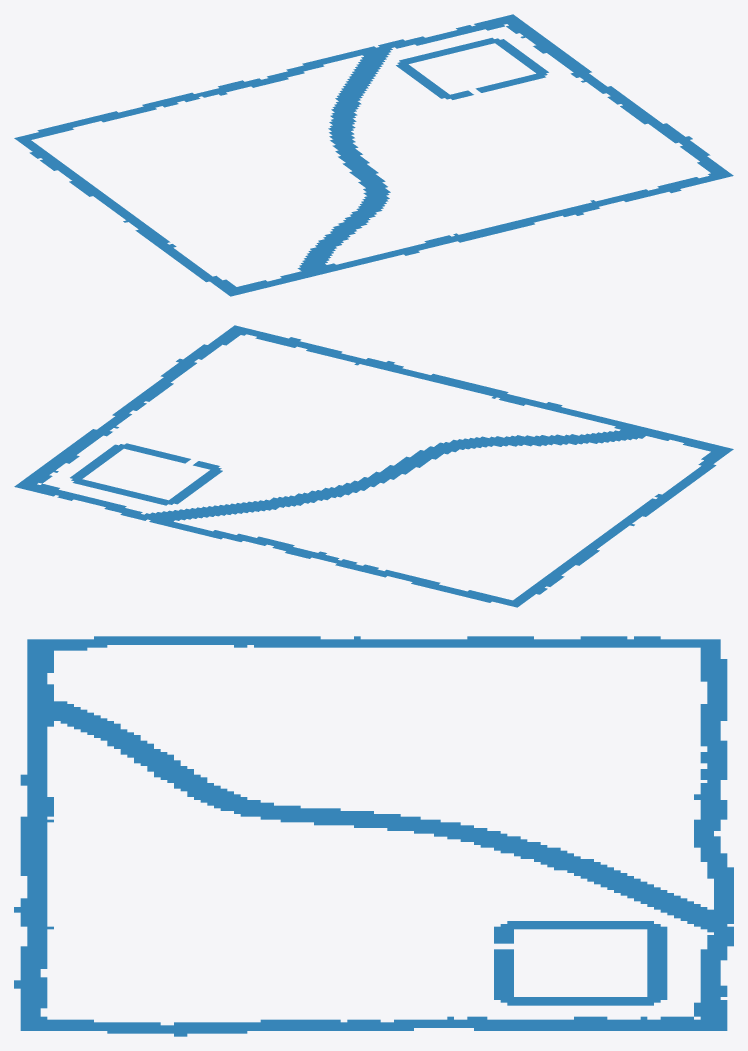
Rendered from Map-M3-PlaceForWaterObjects.fbx.
3 views of the same model, one above another, from view 1: azimuth 30°, elevation 25°; view 2: azimuth 150°, elevation 25°; view 3: azimuth 270°, elevation 25° (orthographic). The views are drawn at different scales.
Visible parts, largest first — view 1: Map-M3-PlaceForWaterObjects; view 2: Map-M3-PlaceForWaterObjects; view 3: Map-M3-PlaceForWaterObjects.
Boxes of the visible parts, x1,y1,x2,y2 form: Map-M3-PlaceForWaterObjects: (14, 14, 733, 296); Map-M3-PlaceForWaterObjects: (14, 325, 733, 607); Map-M3-PlaceForWaterObjects: (14, 636, 733, 1036).
Size of the model in its own units: 142 by 0 by 108.
